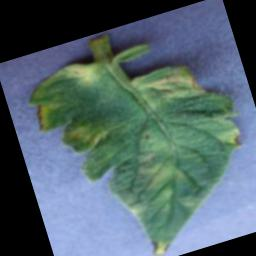Leaf_Mold: (143, 67, 205, 110), (52, 54, 107, 95), (217, 126, 246, 153), (33, 104, 55, 132), (148, 235, 173, 256)
